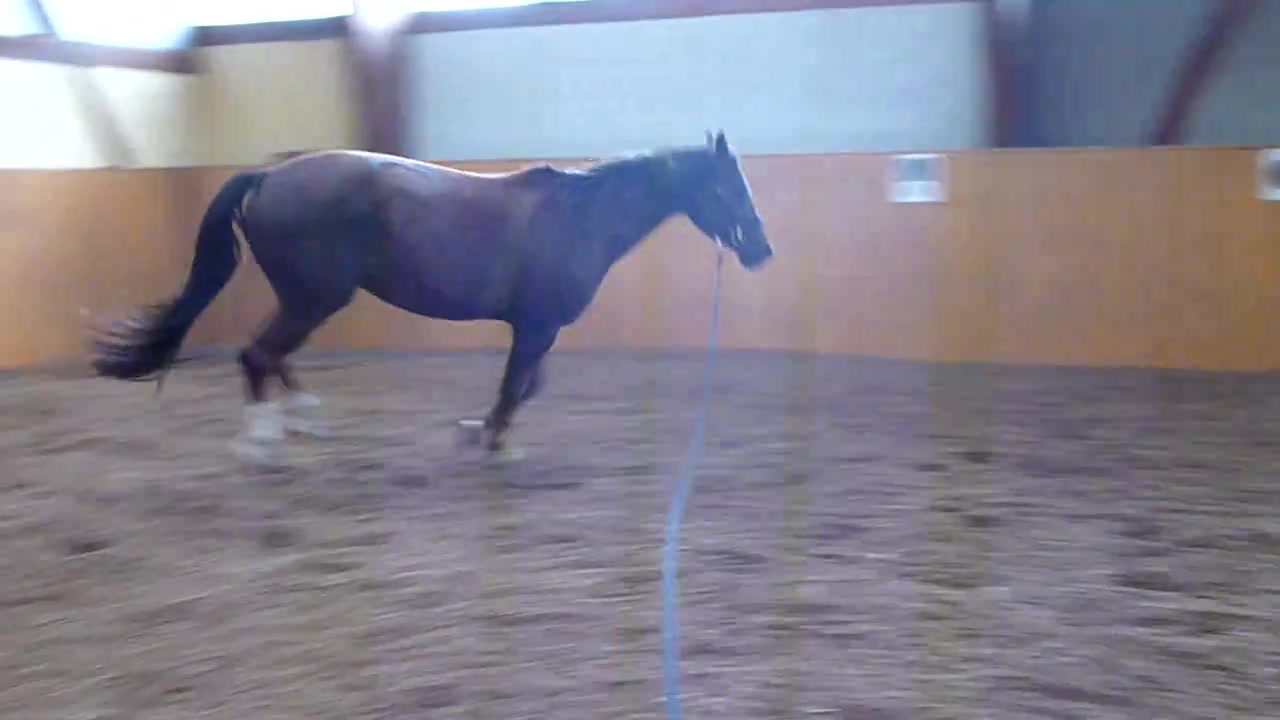horse: (101, 147, 795, 483)
